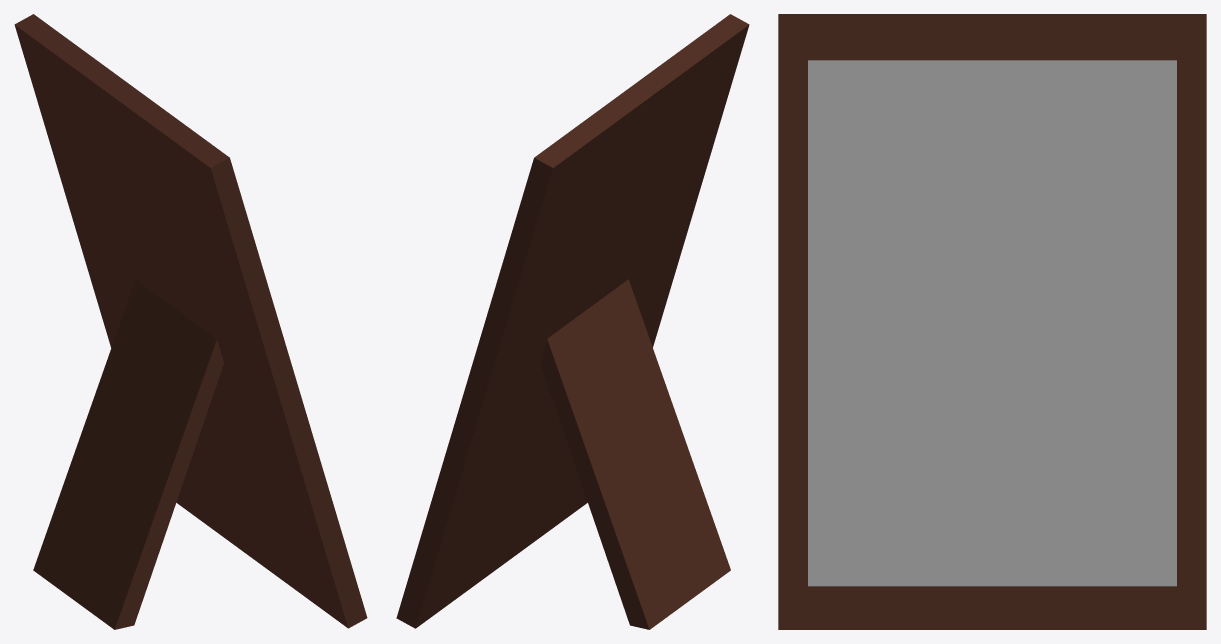
File: PictureFrame.fbx
The picture shows the model from 3 angles, left to right: view 1: azimuth 30°, elevation 25°; view 2: azimuth 150°, elevation 25°; view 3: azimuth 270°, elevation 25°; orthographic projection. The views are drawn at different scales.
Visible parts, largest first — view 1: pCube3; view 2: pCube3; view 3: pCube3.
Part boxes in pixels (left/top/right/bottom): pCube3: left=14, top=14, right=367, bottom=629; pCube3: left=396, top=14, right=749, bottom=629; pCube3: left=778, top=14, right=1206, bottom=629.
Size of the model in its own units: 0.5754 by 1.41 by 1.
